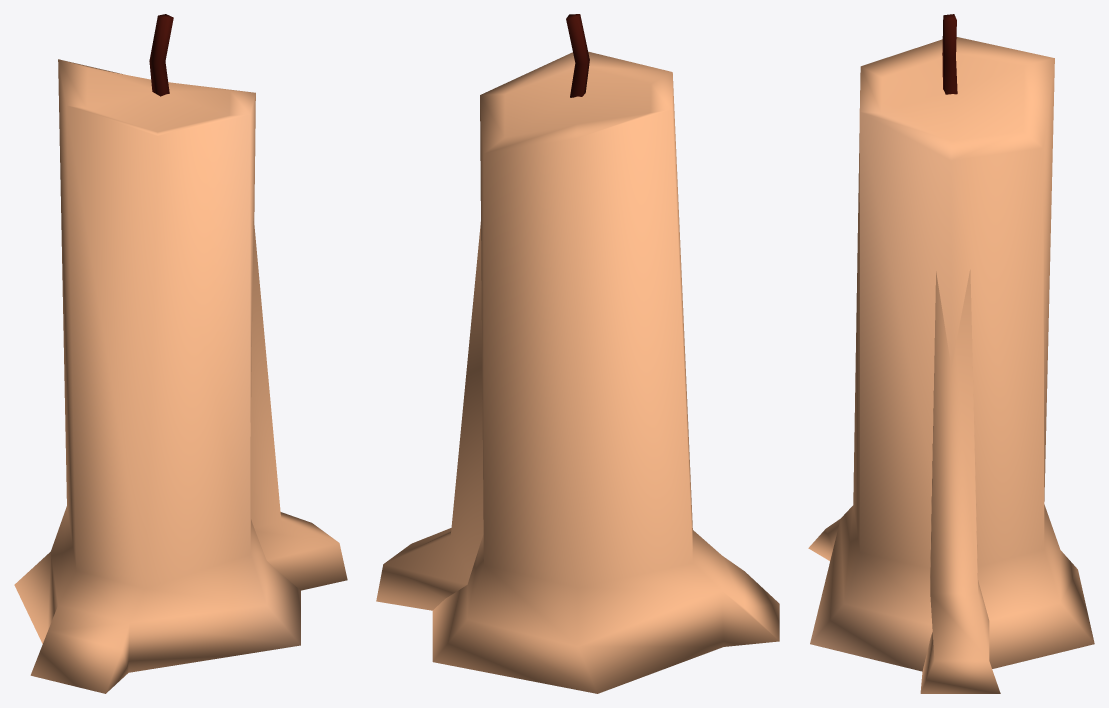
File: HWN20_Candle_03_unlit.glb
3 views of the same model, side by side, from view 1: azimuth 30°, elevation 25°; view 2: azimuth 150°, elevation 25°; view 3: azimuth 270°, elevation 25° (orthographic). The views are drawn at different scales.
Visible parts, largest first — view 1: HWN20_Candle_03; view 2: HWN20_Candle_03; view 3: HWN20_Candle_03.
Part boxes in pixels (<box>): HWN20_Candle_03: <box>14,14,347,693</box>; HWN20_Candle_03: <box>376,14,779,693</box>; HWN20_Candle_03: <box>808,14,1094,693</box>.
Size of what is drawn, in the model's own units: 0.2326 by 0.3937 by 0.1717.
Materials: 1 (1 with a texture image).
